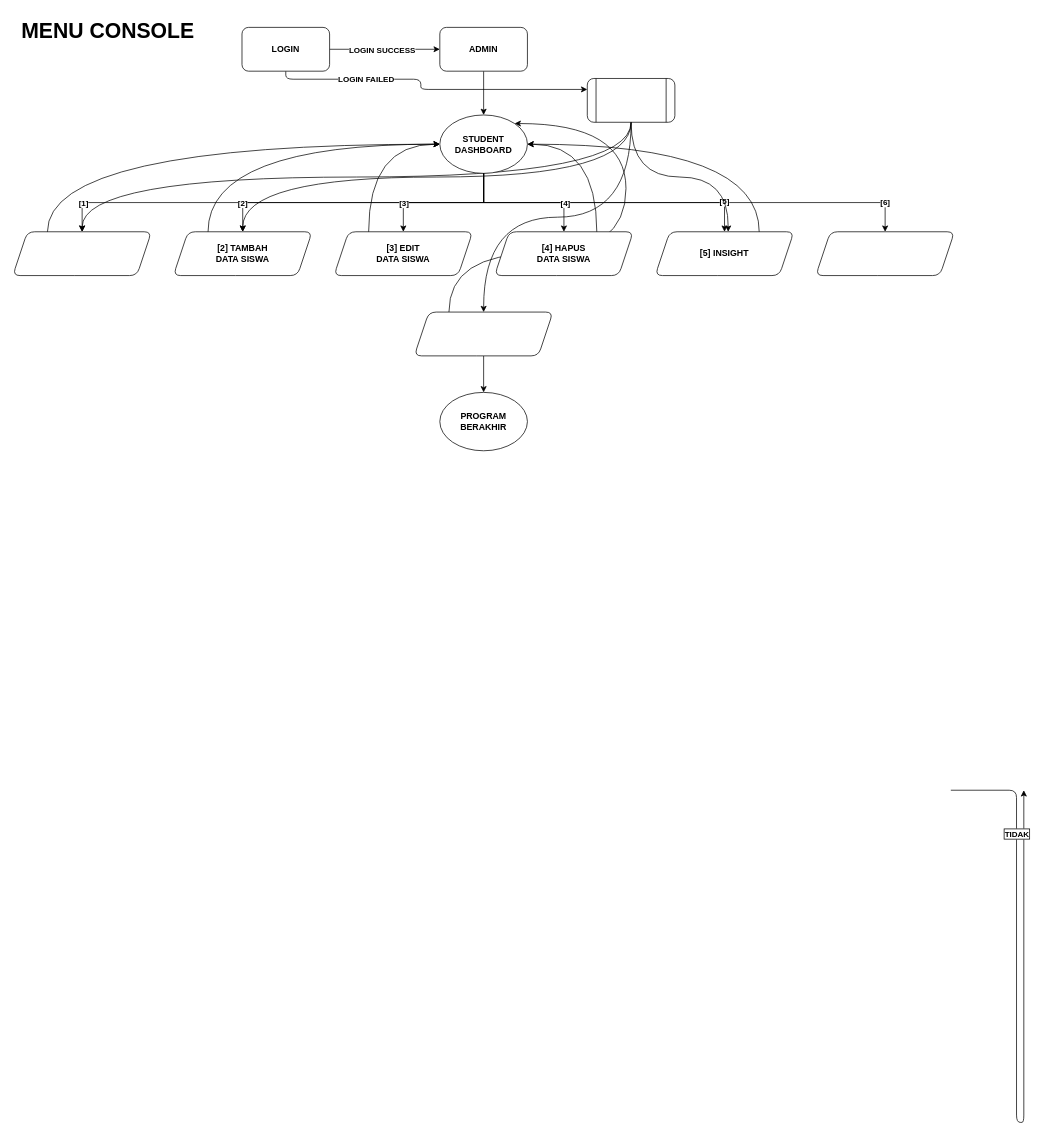
The diagram is 1042 pixels wide and 1141 high, and some of its shapes have lost their labels. Each missing label, with the box of its shape:
[0] EXIT: (414, 311, 553, 356)
[1] TAMPILKAN DATA SISWA: (12, 231, 151, 276)
[6] RECYCLE BIN: (815, 231, 954, 276)
GUEST: (587, 78, 675, 122)
